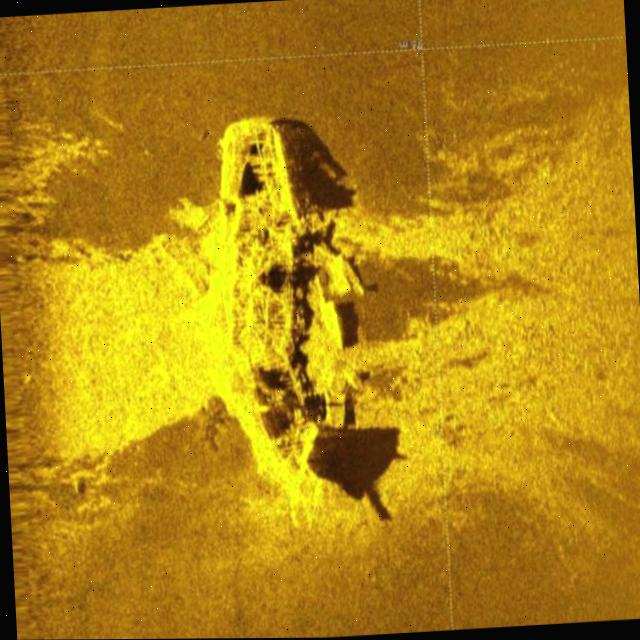shipwreck: (199, 108, 359, 522)
